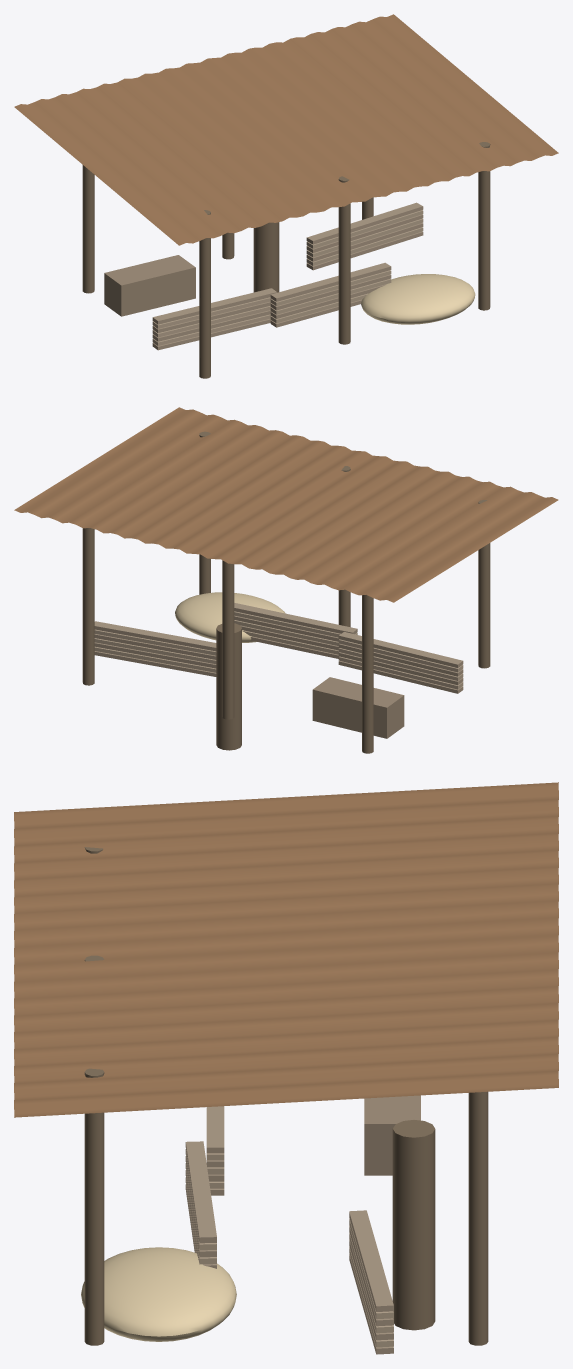
The model's file is sawmill.glb.
The picture shows the model from 3 angles, top to bottom: view 1: azimuth 30°, elevation 25°; view 2: azimuth 150°, elevation 25°; view 3: azimuth 270°, elevation 25°; orthographic projection. The views are drawn at different scales.
Parts seen in each view (by area): view 1: MK_sawmill; view 2: MK_sawmill; view 3: MK_sawmill.
Part boxes in pixels (x1,y1,x2,y2): MK_sawmill: [14, 14, 558, 378]; MK_sawmill: [14, 407, 558, 753]; MK_sawmill: [14, 782, 558, 1354].
Bounding box in the file's own units: 10.2 × 5.82 × 7.69.
